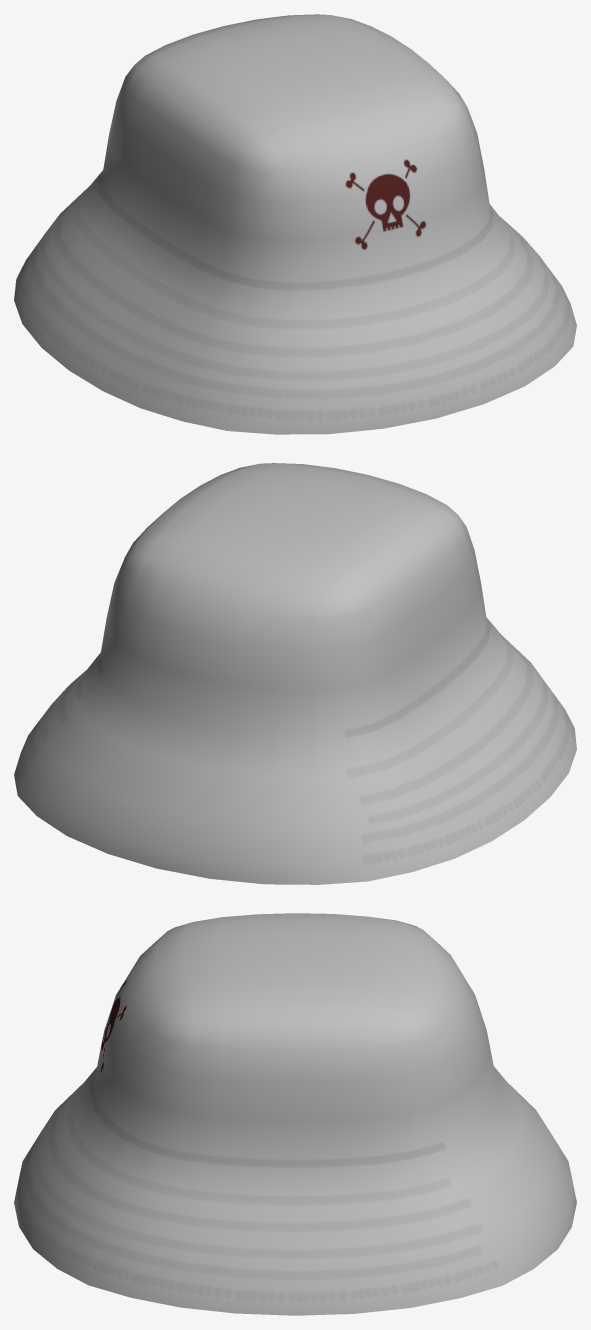
File: GG_Character_BucketHatAccess.fbx
3 views of the same model, one above another, from view 1: azimuth 30°, elevation 25°; view 2: azimuth 150°, elevation 25°; view 3: azimuth 270°, elevation 25° (orthographic).
Visible parts, largest first — view 1: BucketHat; view 2: BucketHat; view 3: BucketHat.
Boxes of the visible parts, x1=… form: BucketHat: x1=14, y1=14, x2=576, y2=434; BucketHat: x1=14, y1=463, x2=576, y2=884; BucketHat: x1=14, y1=913, x2=576, y2=1315.
Bounding box in the file's own units: 1.43 × 0.762 × 1.53.
